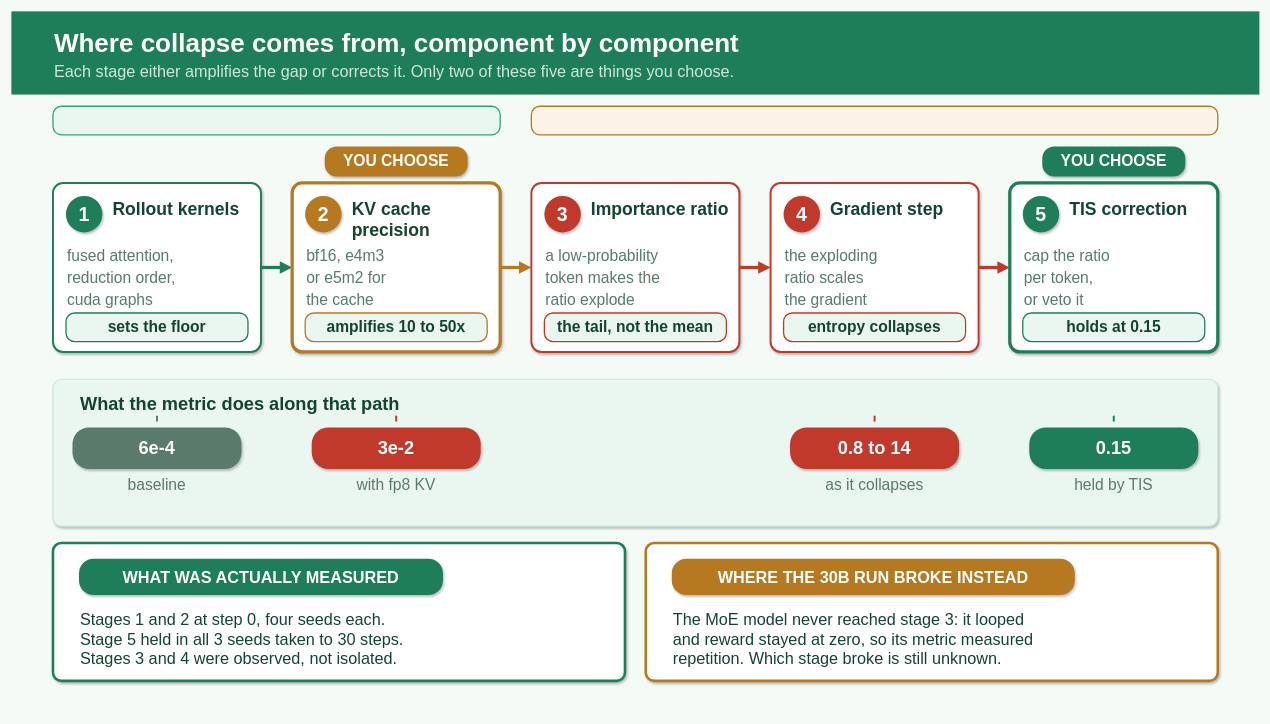
Image size: 1270x724. Some labels were removed from this diagram. Each missing label, with the centre of its shape:
measured at step 0, no optimizer step: point (276, 120)
only appears once training runs, 30 steps: point (874, 120)
